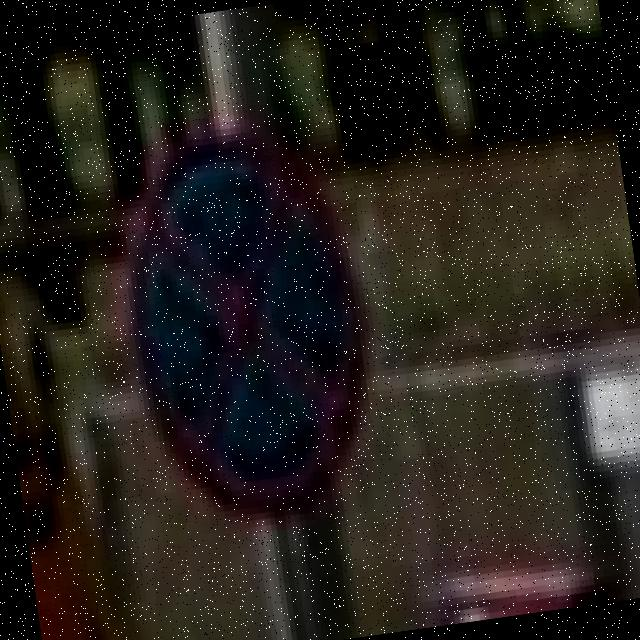Zakaz zatrzymywania sie: (103, 113, 393, 534)
